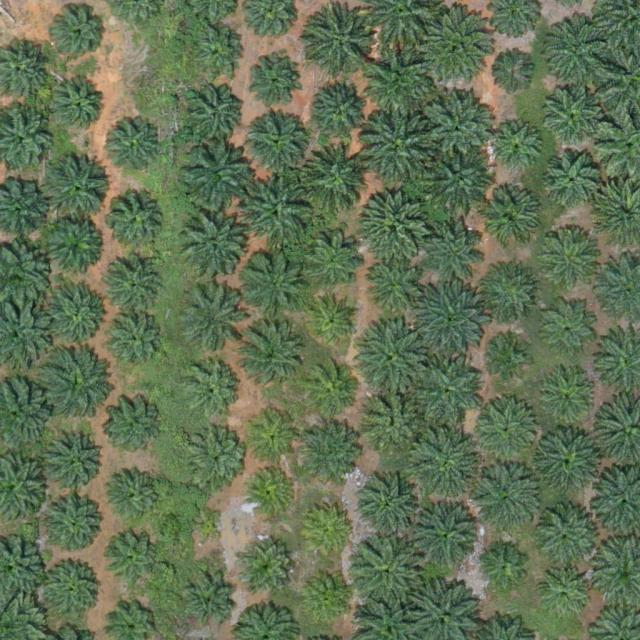Healthy: (353, 532, 431, 611), (544, 14, 615, 85), (412, 429, 483, 500), (426, 11, 497, 82), (365, 50, 436, 121), (294, 226, 365, 297), (533, 427, 603, 498), (426, 145, 496, 216), (423, 91, 493, 162), (363, 325, 433, 396), (299, 145, 369, 216), (242, 179, 312, 250), (239, 248, 309, 319), (237, 320, 307, 391), (181, 143, 251, 214), (44, 347, 114, 418), (40, 152, 110, 223), (409, 501, 479, 572), (472, 465, 542, 536), (474, 399, 544, 469), (414, 357, 484, 427), (415, 283, 485, 353), (360, 114, 430, 184), (358, 189, 428, 259), (537, 504, 607, 574), (312, 78, 375, 141), (177, 288, 240, 351), (105, 189, 168, 252), (480, 189, 543, 251), (425, 213, 487, 276), (365, 389, 427, 452), (309, 14, 372, 76), (100, 118, 162, 181), (103, 256, 165, 319), (104, 311, 166, 374), (47, 281, 109, 344), (42, 214, 104, 277), (248, 111, 310, 173), (183, 425, 245, 487), (180, 217, 242, 279), (183, 82, 245, 144), (43, 558, 105, 620), (541, 370, 596, 425), (545, 230, 600, 285), (544, 86, 599, 141), (488, 120, 543, 175), (483, 264, 538, 319), (362, 260, 417, 315), (302, 427, 357, 482), (301, 364, 356, 419), (244, 53, 299, 108), (183, 361, 238, 416), (194, 24, 249, 79), (48, 433, 103, 488), (48, 78, 103, 133), (53, 8, 108, 63), (108, 465, 163, 520), (362, 478, 417, 533), (545, 151, 599, 206), (106, 398, 160, 453), (50, 500, 104, 555), (547, 308, 594, 356), (243, 545, 290, 593), (108, 535, 155, 582), (192, 577, 239, 624), (484, 547, 531, 594), (545, 571, 592, 618)
Small: (306, 294, 361, 349), (307, 572, 354, 620), (488, 53, 535, 100), (489, 338, 529, 378), (190, 516, 221, 547)
Yellow: (246, 464, 301, 519), (247, 411, 301, 466), (306, 507, 353, 555)
